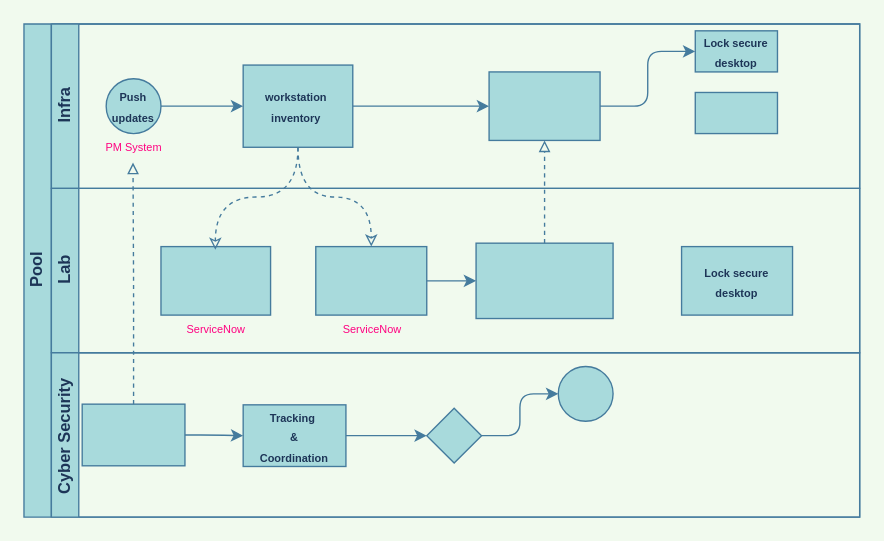
This 884x541 diagram has some shape labels left out. The shapes that lost their labels are listed below. From the top down, each one's centre as x and y in pixels, then its label:
At point 544,105: "Install cumulative Updates".
At point 215,280: "Open ticket to empower team".
At point 370,280: "Open ticket for unlock Secure Desktop".
At point 544,280: "1. Unlock secure desktop & 2. Keep power on, network status".
At point 133,434: "Monthly Compliance updates inventory".
